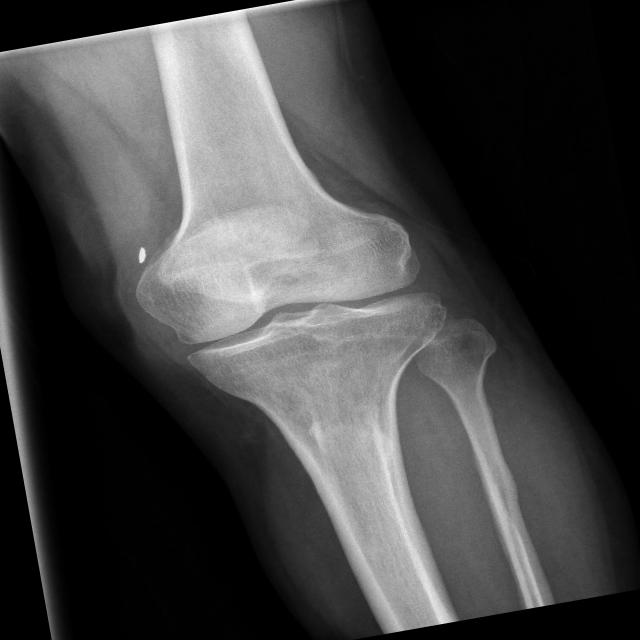Knee: (126, 185, 458, 422)
